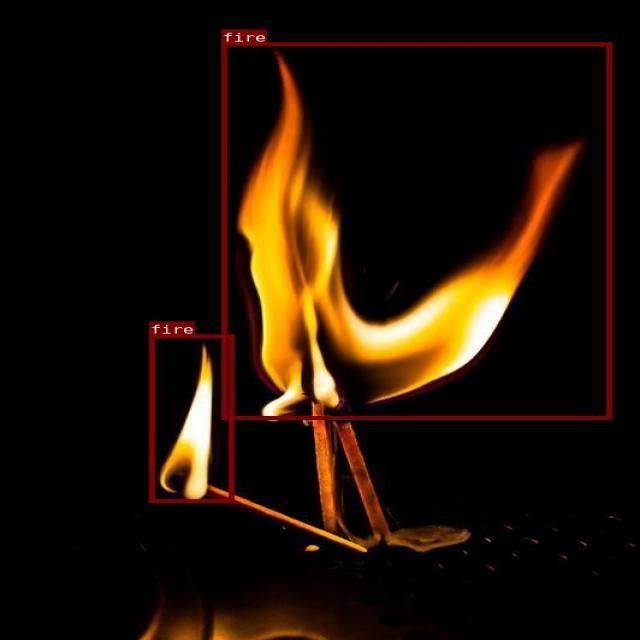fire: (221, 42, 610, 419), (149, 334, 232, 502)
